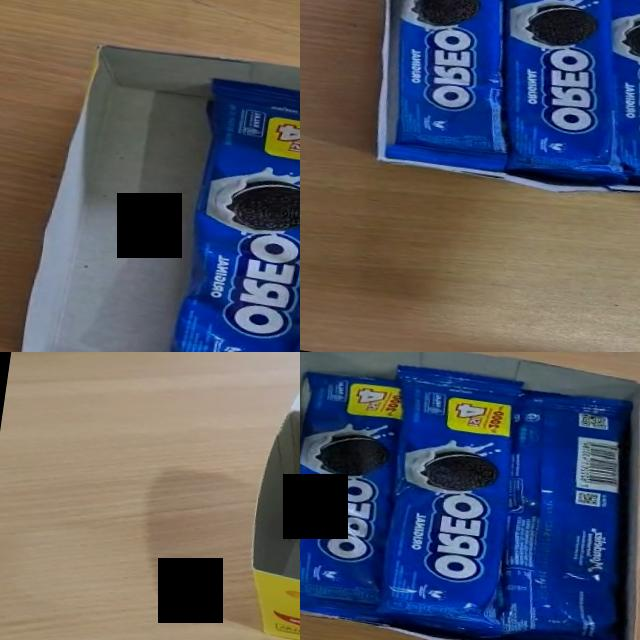Oreo: (362, 362, 540, 638), (149, 75, 300, 352), (482, 383, 640, 640), (465, 0, 640, 195), (364, 0, 541, 176), (300, 366, 420, 625), (581, 0, 640, 201)
